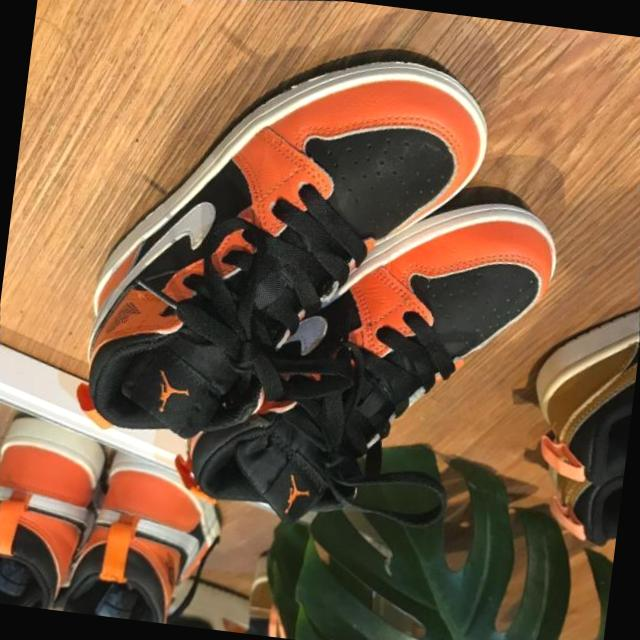nike_fake_jordan: (44, 6, 532, 482), (147, 155, 602, 566)
